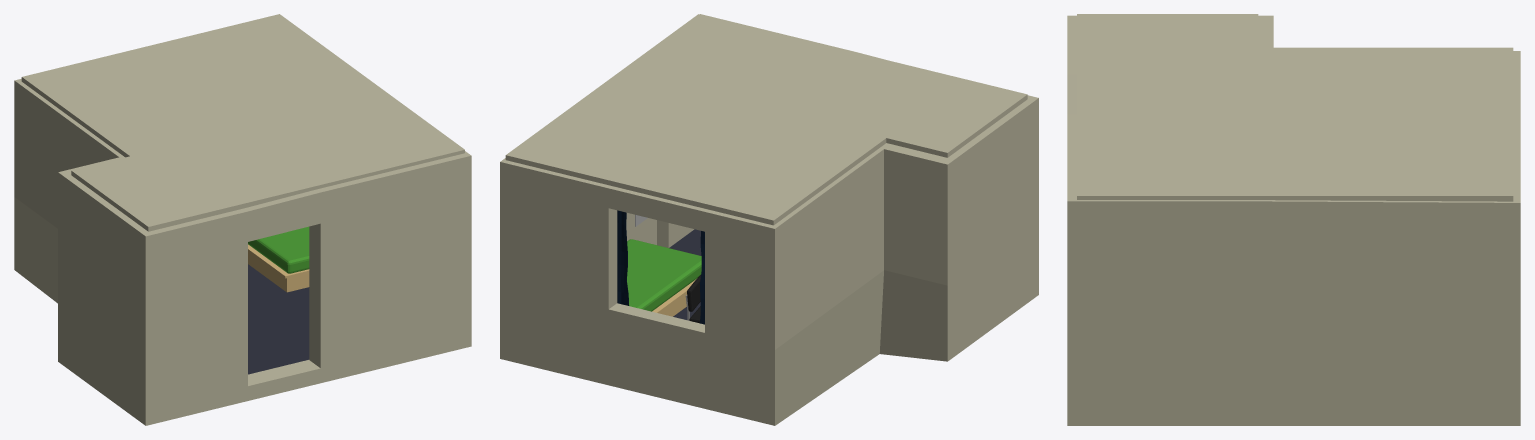
The model's file is room.gltf.
3 renders of one model, left to right at view 1: azimuth 30°, elevation 25°; view 2: azimuth 150°, elevation 25°; view 3: azimuth 270°, elevation 25°, orthographic. The views are drawn at different scales.
Visible parts, largest first — view 1: Room, Floor.001, Floor, Mattress, Bed Bottom; view 2: Room, Floor.001, Mattress, Curtains, Floor, Bed Bottom; view 3: Room, Floor.001.
Boxes of the visible parts, x1=… form: Room: x1=14, y1=78, x2=471, y2=425; Floor.001: x1=21, y1=14, x2=464, y2=231; Floor: x1=248, y1=264, x2=309, y2=374; Mattress: x1=248, y1=226, x2=309, y2=273; Bed Bottom: x1=248, y1=244, x2=309, y2=292; Room: x1=500, y1=14, x2=1038, y2=425; Floor.001: x1=505, y1=14, x2=1027, y2=225; Mattress: x1=627, y1=239, x2=701, y2=311; Curtains: x1=617, y1=210, x2=704, y2=324; Floor: x1=669, y1=229, x2=701, y2=319; Bed Bottom: x1=652, y1=279, x2=696, y2=316; Room: x1=1067, y1=15, x2=1520, y2=425; Floor.001: x1=1077, y1=14, x2=1513, y2=201.
Size of the model in its own units: 7.75 by 4.69 by 7.94.
